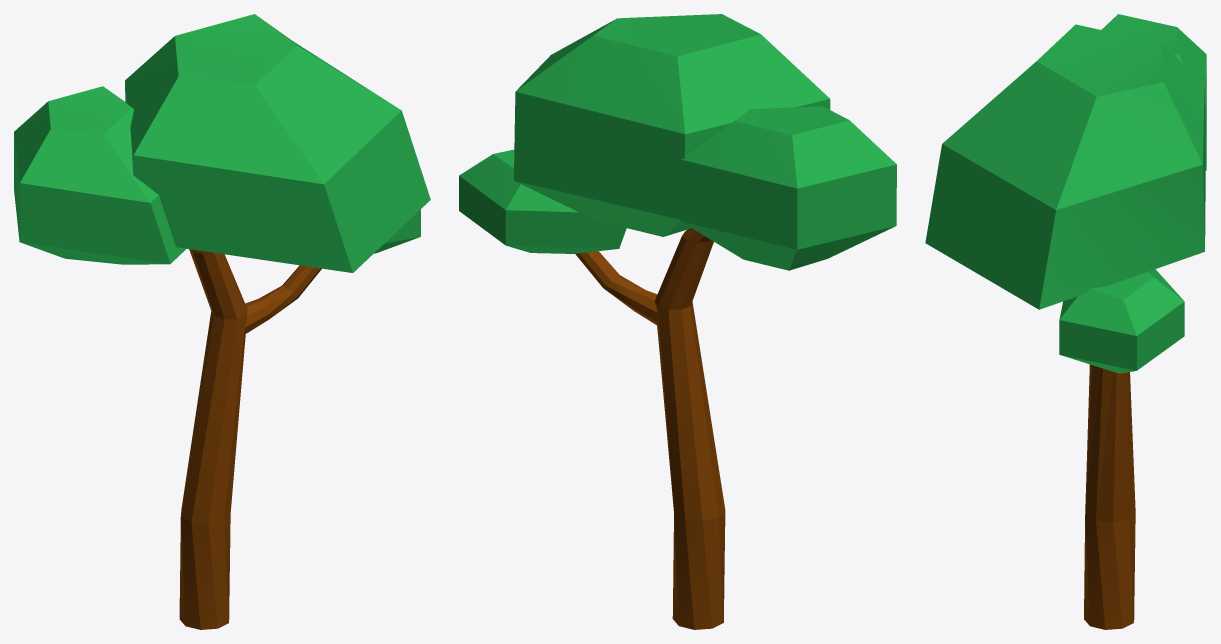
Rendered from BigTreeWithLeaves.obj.
3 renders of one model, left to right at view 1: azimuth 30°, elevation 25°; view 2: azimuth 150°, elevation 25°; view 3: azimuth 270°, elevation 25°, orthographic. The views are drawn at different scales.
Visible parts, largest first — view 1: Tree_Cylinder.002; view 2: Tree_Cylinder.002; view 3: Tree_Cylinder.002.
Part boxes in pixels (x1,y1,x2,y2): Tree_Cylinder.002: (14,14,430,629); Tree_Cylinder.002: (459,14,896,629); Tree_Cylinder.002: (925,14,1206,629).
Size of the model in its own units: 4.41 by 5.85 by 2.59.
Materials: 1 (1 with a texture image).
